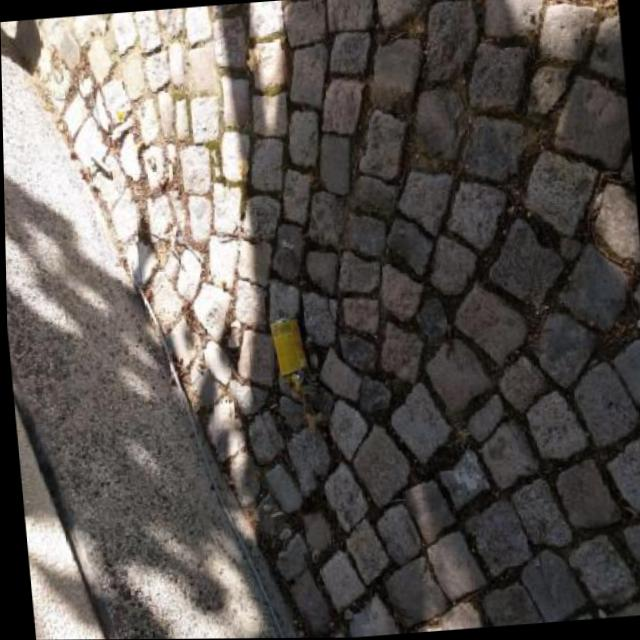metal: (272, 313, 311, 377)
